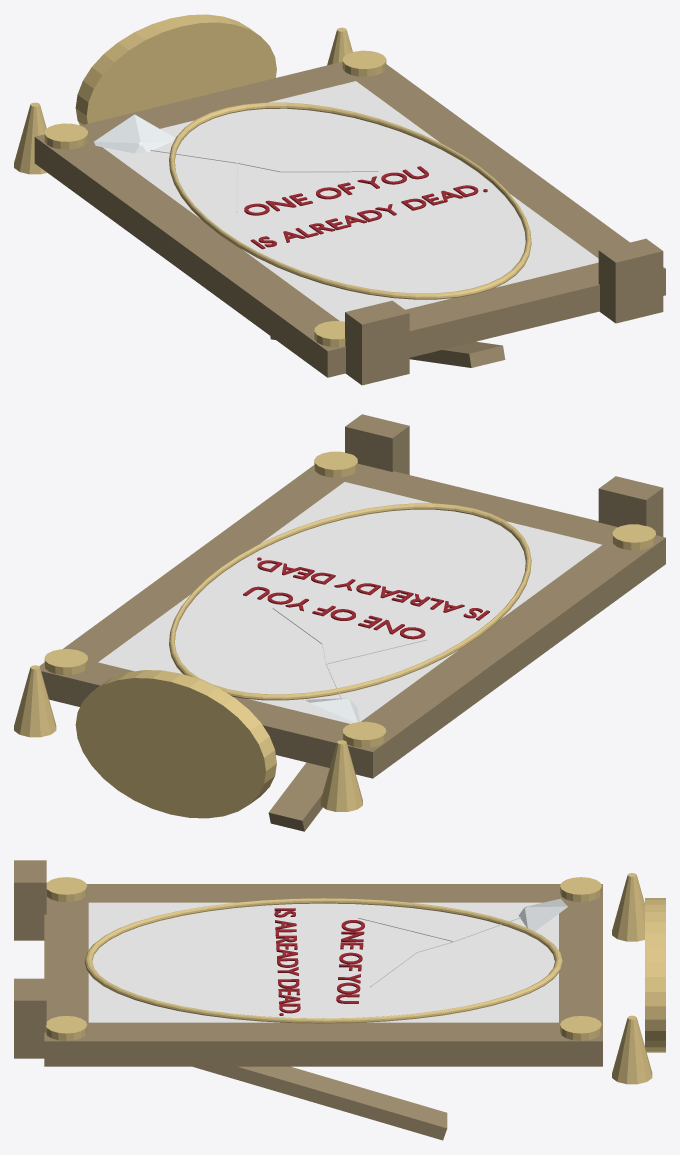
File: antique_victorian_tabletop_mirror.glb
3 views of the same model, one above another, from view 1: azimuth 30°, elevation 25°; view 2: azimuth 150°, elevation 25°; view 3: azimuth 270°, elevation 25° (orthographic). The views are drawn at different scales.
Parts seen in each view (by area): view 1: Mirror_ReflectiveGlass, Frame_LeftStile, Frame_VictorianCrest_Crown, Frame_BottomRail, Frame_RightStile, Frame_TopRail, Frame_InnerGoldMolding, Base_ScrollFoot_R, Base_ScrollFoot_L, Mirror_DamagedChippedCorner, Evidence_CrimsonLettering_Line_2, Tabletop_RearEaselStrut (+6 smaller); view 2: Mirror_ReflectiveGlass, Frame_VictorianCrest_Crown, Frame_LeftStile, Frame_RightStile, Frame_TopRail, Frame_BottomRail, Frame_InnerGoldMolding, Base_ScrollFoot_R, Base_ScrollFoot_L, Tabletop_RearEaselStrut, Frame_Finial_R, Frame_Finial_L (+7 smaller); view 3: Mirror_ReflectiveGlass, Frame_RightStile, Frame_LeftStile, Frame_BottomRail, Frame_TopRail, Frame_InnerGoldMolding, Tabletop_RearEaselStrut, Frame_VictorianCrest_Crown, Base_ScrollFoot_L, Base_ScrollFoot_R, Frame_Finial_R, Frame_Finial_L (+7 smaller).
Boxes of the visible parts, x1=… form: Mirror_ReflectiveGlass: x1=103, y1=81, x2=598, y2=321; Frame_LeftStile: x1=57, y1=145, x2=339, y2=360; Frame_VictorianCrest_Crown: x1=75, y1=14, x2=276, y2=125; Frame_BottomRail: x1=304, y1=262, x2=665, y2=377; Frame_RightStile: x1=356, y1=71, x2=629, y2=258; Frame_TopRail: x1=34, y1=61, x2=395, y2=179; Frame_InnerGoldMolding: x1=169, y1=102, x2=531, y2=299; Base_ScrollFoot_R: x1=598, y1=238, x2=663, y2=323; Base_ScrollFoot_L: x1=345, y1=300, x2=409, y2=385; Mirror_DamagedChippedCorner: x1=94, y1=114, x2=174, y2=153; Evidence_CrimsonLettering_Line_2: x1=250, y1=185, x2=487, y2=249; Tabletop_RearEaselStrut: x1=270, y1=336, x2=505, y2=367; Mirror_ReflectiveGlass: x1=98, y1=482, x2=602, y2=723; Frame_VictorianCrest_Crown: x1=75, y1=670, x2=276, y2=818; Frame_LeftStile: x1=361, y1=545, x2=642, y2=761; Frame_RightStile: x1=62, y1=472, x2=344, y2=662; Frame_TopRail: x1=39, y1=660, x2=396, y2=778; Frame_BottomRail: x1=305, y1=463, x2=665, y2=580; Frame_InnerGoldMolding: x1=169, y1=503, x2=531, y2=700; Base_ScrollFoot_R: x1=345, y1=414, x2=409, y2=474; Base_ScrollFoot_L: x1=598, y1=476, x2=663, y2=536; Tabletop_RearEaselStrut: x1=268, y1=762, x2=329, y2=831; Frame_Finial_R: x1=14, y1=665, x2=56, y2=737; Frame_Finial_L: x1=320, y1=740, x2=362, y2=811; Mirror_ReflectiveGlass: x1=88, y1=902, x2=558, y2=1022; Frame_RightStile: x1=88, y1=1022, x2=558, y2=1066; Frame_LeftStile: x1=88, y1=884, x2=558, y2=902; Frame_BottomRail: x1=44, y1=884, x2=88, y2=1066; Frame_TopRail: x1=559, y1=884, x2=602, y2=1066; Frame_InnerGoldMolding: x1=84, y1=898, x2=562, y2=1023; Tabletop_RearEaselStrut: x1=193, y1=1066, x2=447, y2=1140; Frame_VictorianCrest_Crown: x1=645, y1=898, x2=665, y2=1052; Base_ScrollFoot_L: x1=14, y1=860, x2=46, y2=940; Base_ScrollFoot_R: x1=14, y1=978, x2=46, y2=1058; Frame_Finial_R: x1=612, y1=1015, x2=652, y2=1084; Frame_Finial_L: x1=612, y1=873, x2=644, y2=941.
Size of the model in its own units: 0.3248 by 0.2091 by 0.56.
